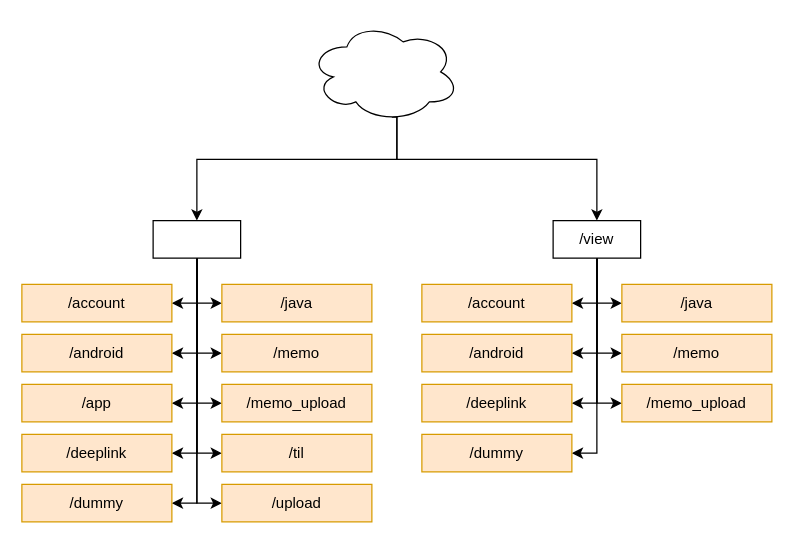
Image size: 794x544. Some labels were removed from this diagram. Here are the shapes that lost their labels. From the top down, the centre of each, then its label:
At pixel 383 71: "WEB".
At pixel 196 238: "/api".
